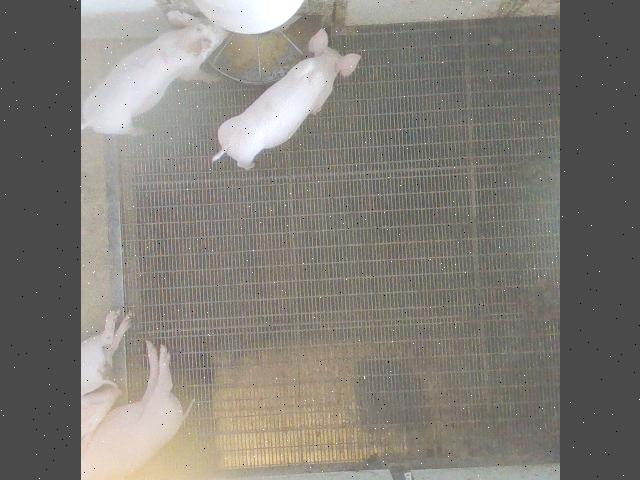pig-5: (81, 10, 225, 135)
